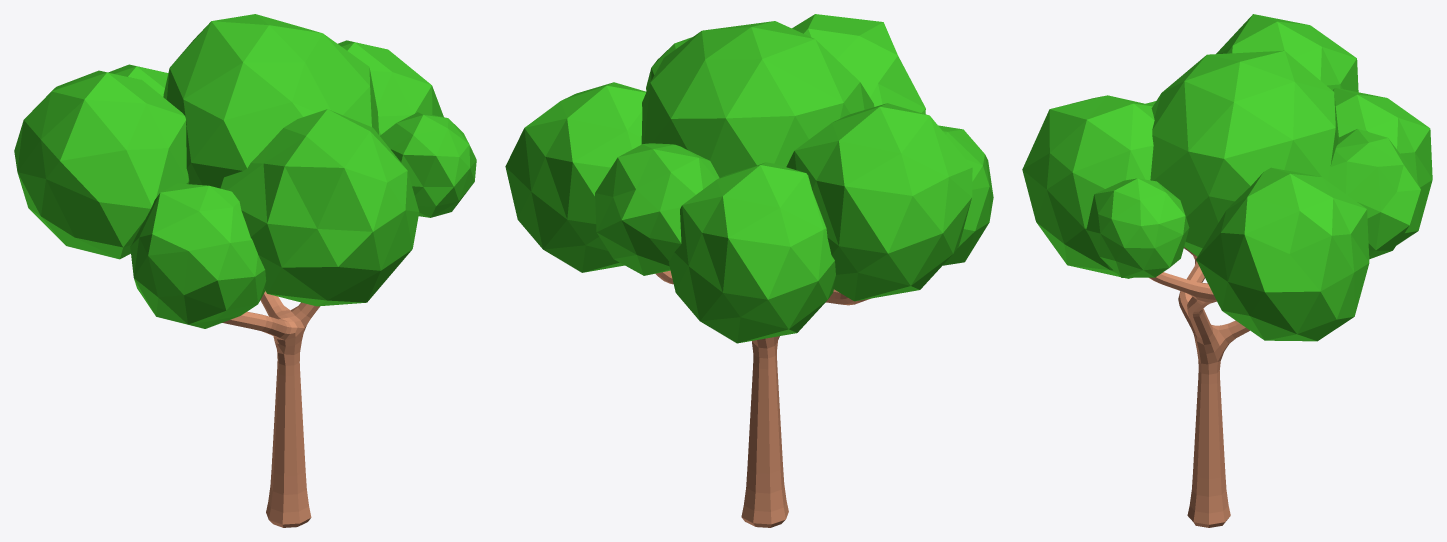
The model's file is BasicTree.fbx.
The picture shows the model from 3 angles, left to right: view 1: azimuth 30°, elevation 25°; view 2: azimuth 150°, elevation 25°; view 3: azimuth 270°, elevation 25°; orthographic projection. The views are drawn at different scales.
Parts seen in each view (by area): view 1: Icosphere, Plane; view 2: Icosphere, Plane; view 3: Icosphere, Plane.
Boxes of the visible parts, x1,y1,x2,y2 form: Icosphere: [14, 14, 476, 328]; Plane: [222, 291, 319, 527]; Icosphere: [505, 14, 993, 343]; Plane: [655, 270, 870, 527]; Icosphere: [1022, 14, 1432, 341]; Plane: [1149, 247, 1249, 527].
Bounding box in the file's own units: 8.55 × 9.68 × 7.84.
